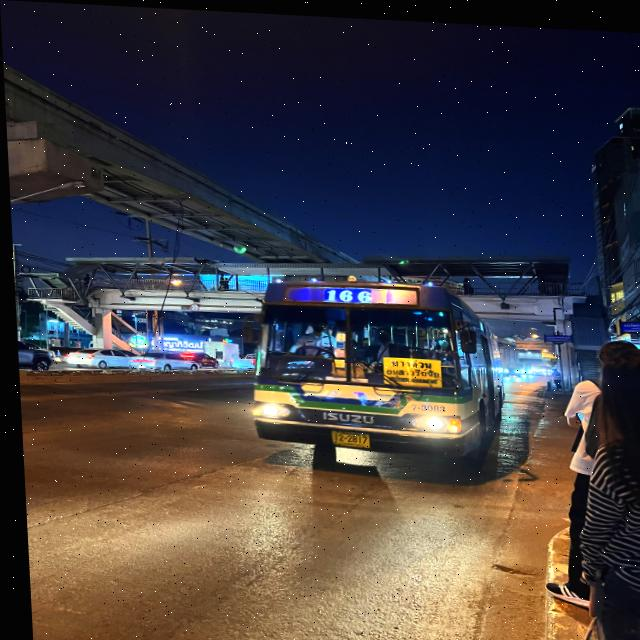BMTA-bus: (242, 264, 505, 483)
Bus-Line-Number: (313, 279, 379, 301)
Destination-Sign-Normal: (375, 352, 440, 385)
